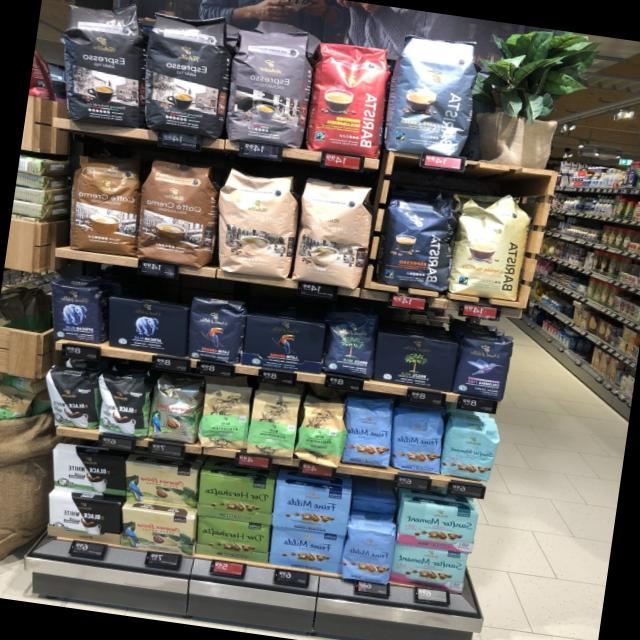AB Bohne: (46, 274, 112, 345)
AB Gemahlen: (107, 296, 191, 358)
Athiopien Bohne: (293, 389, 352, 470)
Athiopien Gemahlen: (193, 372, 256, 454), (242, 382, 306, 462)
BM Bohne: (319, 307, 381, 383)
BM Gemahlen: (372, 328, 459, 394)
BW Bohne: (94, 363, 155, 441), (38, 358, 102, 432)
BW Gemahlen: (46, 490, 124, 548), (53, 449, 124, 501)
Barista CB: (444, 187, 534, 305)
Barista CC: (379, 29, 484, 165)
Barista Espresso: (376, 188, 462, 294)
Barista Kolumbien: (300, 37, 396, 161)
C Fino Bohne: (451, 330, 517, 405)
CC Mild: (208, 164, 305, 282), (290, 176, 378, 290)
CC Vollmundig 36 Pads: (133, 154, 224, 271), (64, 146, 148, 260)
Colombia BB Gemahlen: (121, 458, 201, 514), (118, 504, 198, 556)
Espresso Aromatisch: (222, 22, 320, 152)
Espresso Kraftig: (48, 0, 155, 133), (139, 6, 237, 142)
FM Bohne: (338, 394, 398, 472), (336, 520, 396, 588), (388, 408, 448, 475)
FM Gemahlen: (270, 480, 354, 538), (266, 525, 346, 576)
Herzhatfe Mundig: (195, 468, 278, 526), (193, 513, 274, 566)
LG Bohne: (184, 294, 247, 366)
LG Gemahlen: (238, 312, 328, 378)
SM Bohne: (437, 416, 502, 484)
SM Gemahlen: (395, 500, 482, 556), (388, 542, 470, 596)
